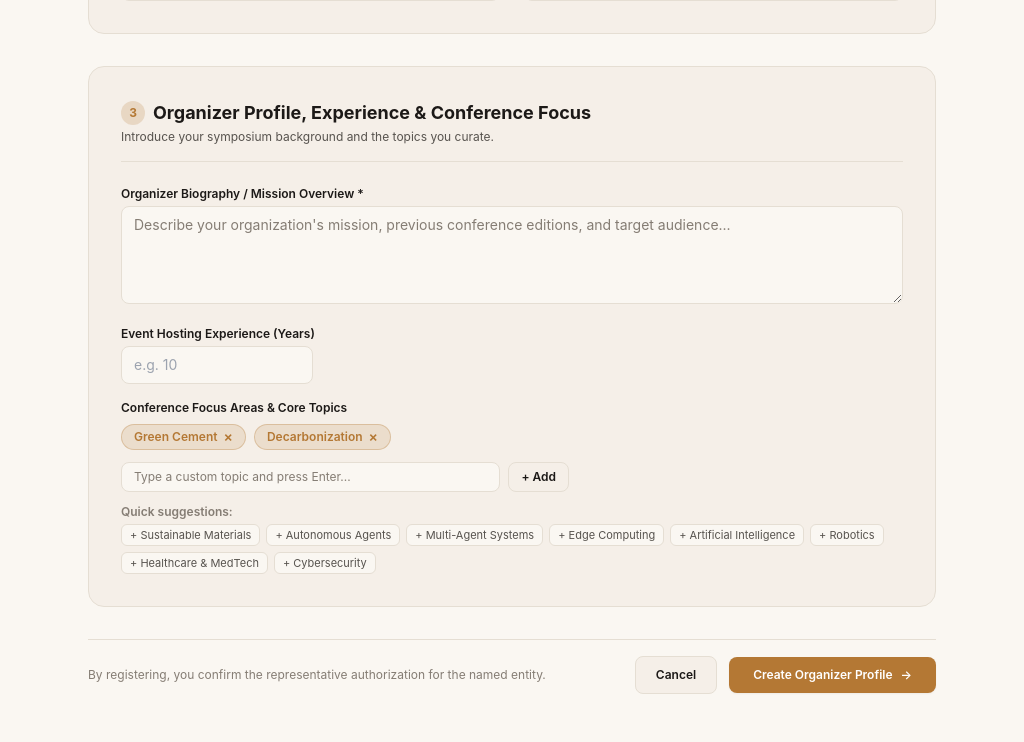
Scenario: Organizer Portal Integration (Phase 2 & Phase 3) › allows adding and removing custom focus area tags in registration
This screenshot has width=1024, height=742.
(page scrolled)
Type "Eco-Concrete" into the field with placeholder "Type a custom topic and press Enter..." at [311, 477], box [121,462,500,492]
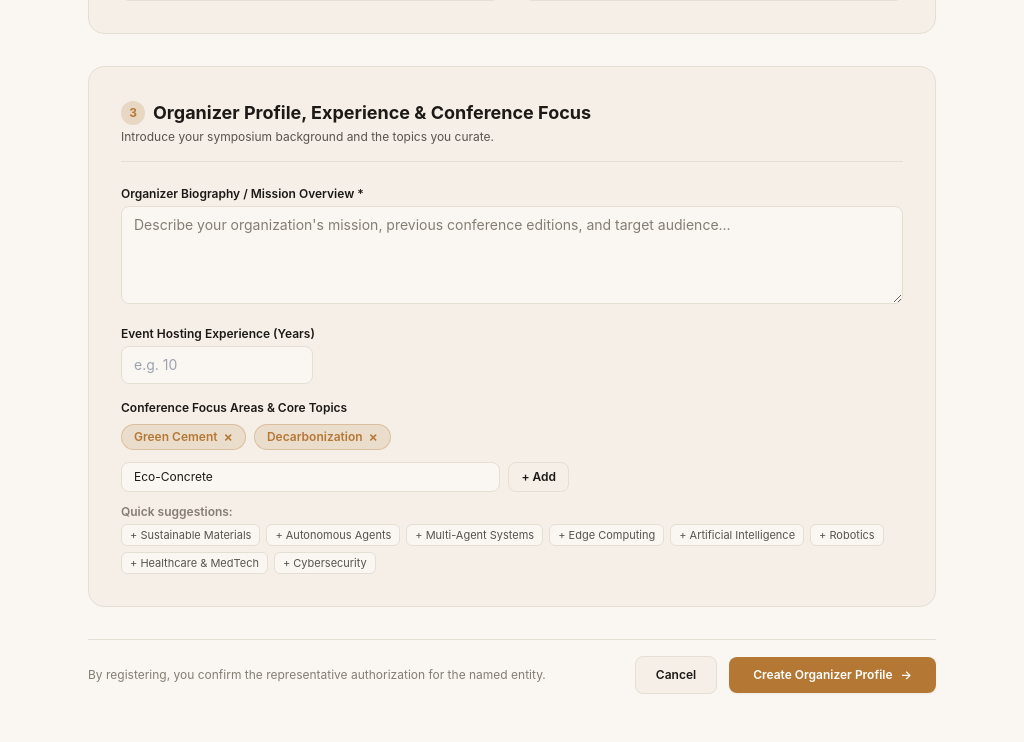
Click the button "+ Add" at [539, 477], box [508,462,569,492]
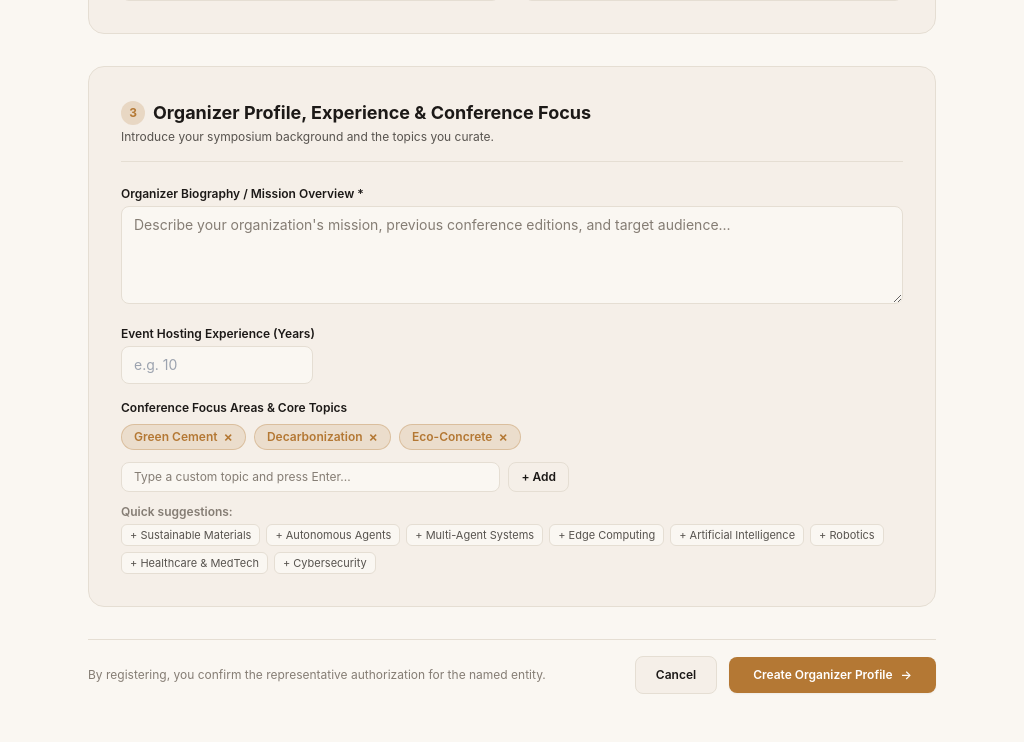
Expected: the text "Eco-Concrete" is shown, [412,429,492,445]
Click the button named "Remove Eco-Concrete" at [503, 437], box [498,430,508,444]
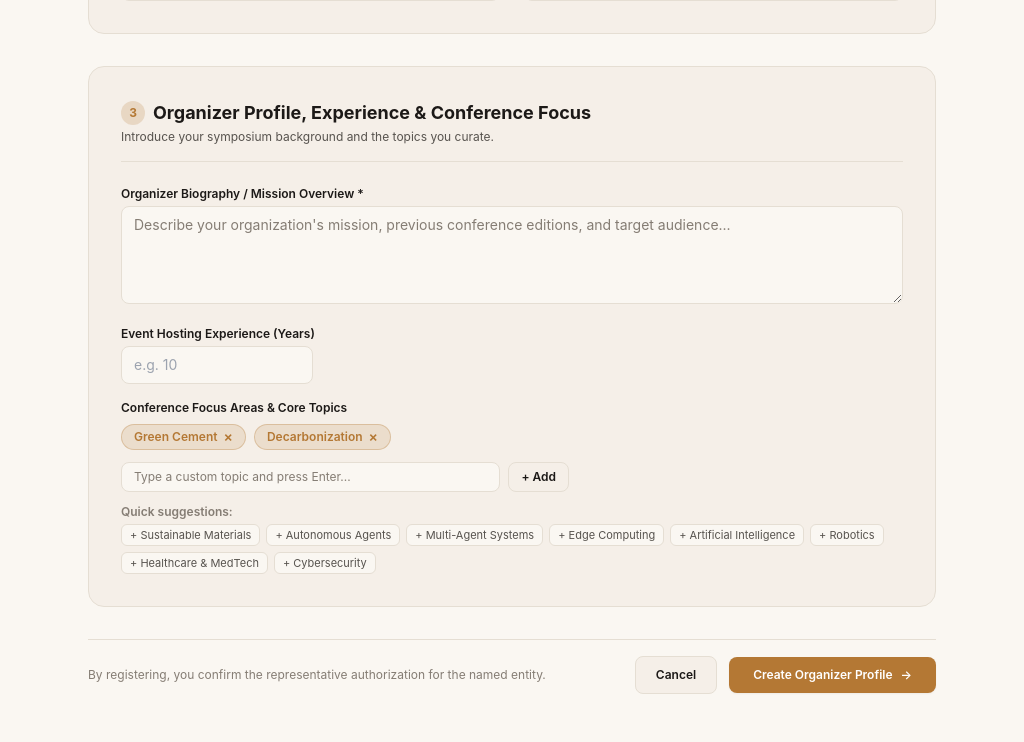
Expected: the text "Eco-Concrete" is gone
